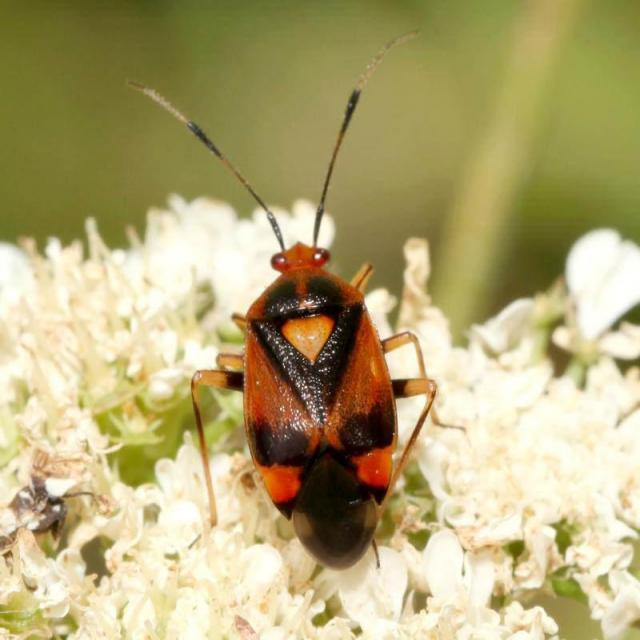Miridae-Adult-: (120, 29, 457, 576)
